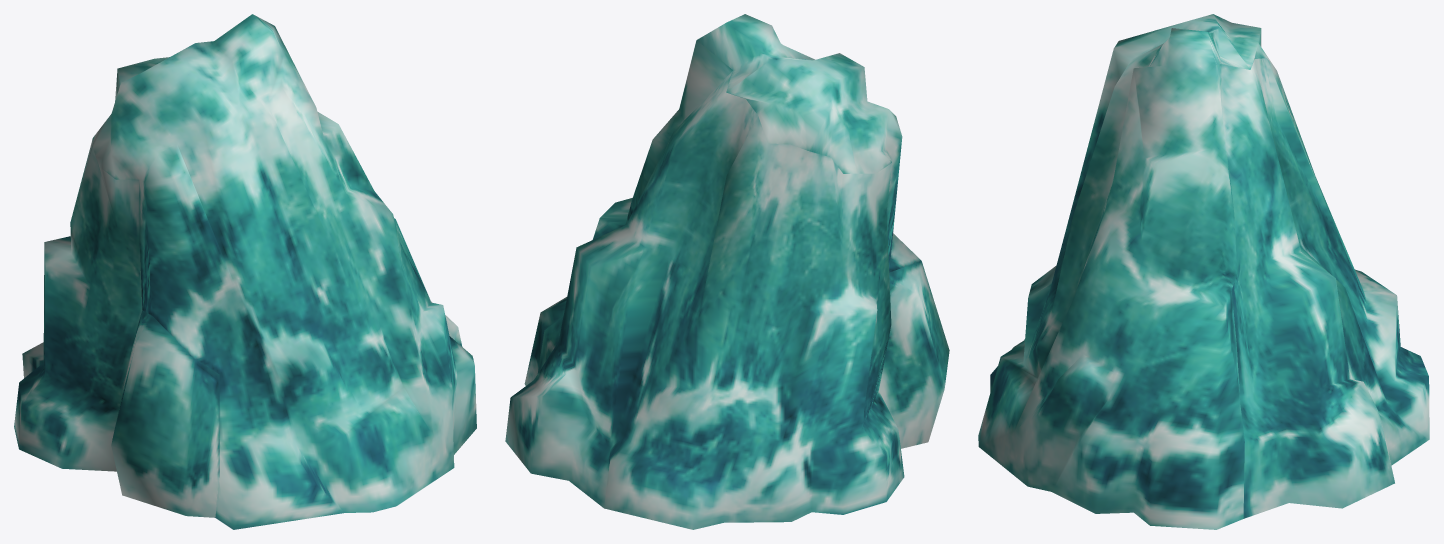
The model's file is SV_MOT_xueyuan_rock_3.FBX.
The picture shows the model from 3 angles, left to right: view 1: azimuth 30°, elevation 25°; view 2: azimuth 150°, elevation 25°; view 3: azimuth 270°, elevation 25°; orthographic projection. The views are drawn at different scales.
Visible parts, largest first — view 1: SV_MOT_xueyuan_rock_3; view 2: SV_MOT_xueyuan_rock_3; view 3: SV_MOT_xueyuan_rock_3.
Boxes of the visible parts, left/top/right/bottom form: SV_MOT_xueyuan_rock_3: left=14, top=14, right=476, bottom=529; SV_MOT_xueyuan_rock_3: left=505, top=14, right=949, bottom=529; SV_MOT_xueyuan_rock_3: left=978, top=14, right=1429, bottom=529.
Bounding box in the file's own units: 8.05 × 7.97 × 8.09.
Materials: 1 (1 with a texture image).
